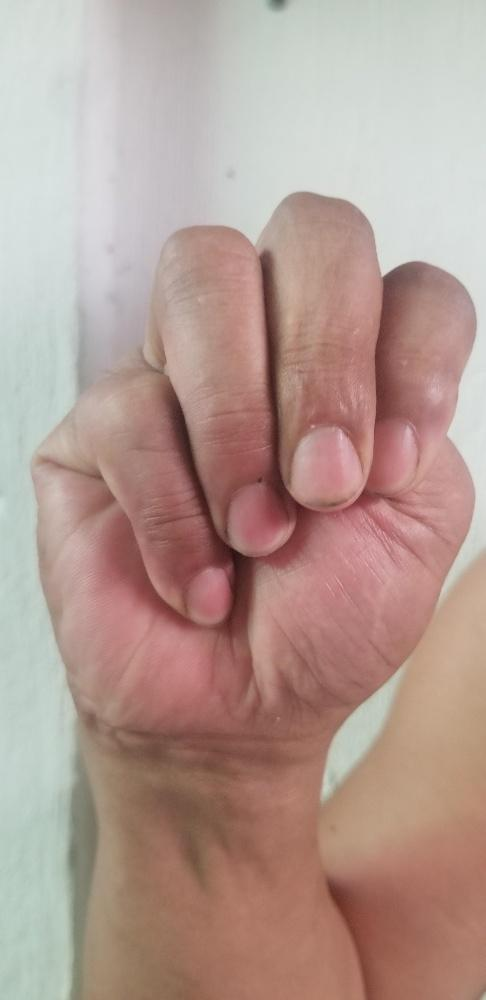m: (30, 187, 478, 733)
